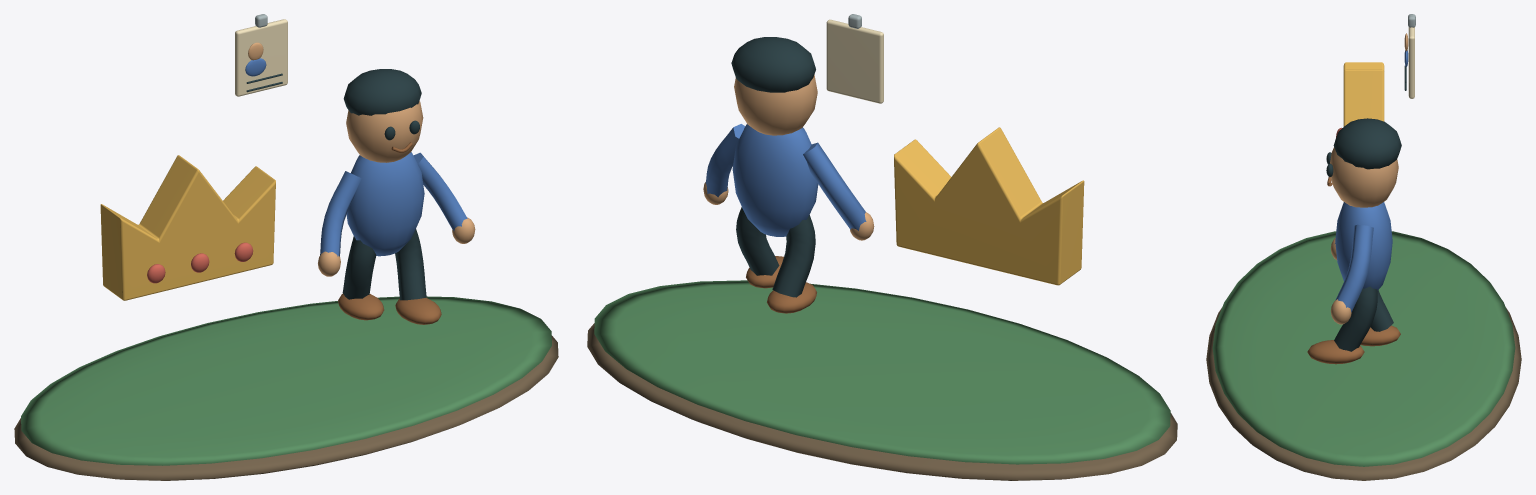
File: complete-third-large-official-husband.glb
The picture shows the model from 3 angles, left to right: view 1: azimuth 30°, elevation 25°; view 2: azimuth 150°, elevation 25°; view 3: azimuth 270°, elevation 25°; orthographic projection. The views are drawn at different scales.
Visible parts, largest first — view 1: complete-third-large-official-husband_surface_01, complete-third-large-official-husband_surface_02, complete-third-large-official-husband_surface_07, complete-third-large-official-husband_surface_00, complete-third-large-official-husband_surface_05, complete-third-large-official-husband_surface_04, complete-third-large-official-husband_surface_08, complete-third-large-official-husband_surface_06, complete-third-large-official-husband_surface_03; view 2: complete-third-large-official-husband_surface_01, complete-third-large-official-husband_surface_02, complete-third-large-official-husband_surface_00, complete-third-large-official-husband_surface_07, complete-third-large-official-husband_surface_05, complete-third-large-official-husband_surface_08, complete-third-large-official-husband_surface_04, complete-third-large-official-husband_surface_06; view 3: complete-third-large-official-husband_surface_01, complete-third-large-official-husband_surface_00, complete-third-large-official-husband_surface_05, complete-third-large-official-husband_surface_07, complete-third-large-official-husband_surface_04, complete-third-large-official-husband_surface_02, complete-third-large-official-husband_surface_06, complete-third-large-official-husband_surface_08.
Part boxes in pixels (left/top/right/bottom): complete-third-large-official-husband_surface_01: left=21, top=296, right=551, bottom=465; complete-third-large-official-husband_surface_02: left=100, top=155, right=275, bottom=300; complete-third-large-official-husband_surface_07: left=245, top=58, right=467, bottom=256; complete-third-large-official-husband_surface_00: left=14, top=335, right=558, bottom=480; complete-third-large-official-husband_surface_05: left=246, top=69, right=426, bottom=300; complete-third-large-official-husband_surface_04: left=248, top=42, right=475, bottom=276; complete-third-large-official-husband_surface_08: left=235, top=19, right=287, bottom=96; complete-third-large-official-husband_surface_06: left=338, top=142, right=441, bottom=324; complete-third-large-official-husband_surface_03: left=147, top=242, right=253, bottom=283; complete-third-large-official-husband_surface_01: left=594, top=280, right=1170, bottom=464; complete-third-large-official-husband_surface_02: left=894, top=127, right=1084, bottom=285; complete-third-large-official-husband_surface_00: left=587, top=323, right=1177, bottom=480; complete-third-large-official-husband_surface_07: left=705, top=124, right=866, bottom=236; complete-third-large-official-husband_surface_05: left=731, top=37, right=815, bottom=297; complete-third-large-official-husband_surface_08: left=826, top=19, right=883, bottom=103; complete-third-large-official-husband_surface_04: left=703, top=74, right=874, bottom=240; complete-third-large-official-husband_surface_06: left=746, top=256, right=816, bottom=313; complete-third-large-official-husband_surface_01: left=1212, top=231, right=1515, bottom=466; complete-third-large-official-husband_surface_00: left=1206, top=308, right=1521, bottom=480; complete-third-large-official-husband_surface_05: left=1326, top=65, right=1406, bottom=351; complete-third-large-official-husband_surface_07: left=1335, top=50, right=1408, bottom=312; complete-third-large-official-husband_surface_04: left=1330, top=33, right=1408, bottom=324; complete-third-large-official-husband_surface_02: left=1343, top=62, right=1384, bottom=126; complete-third-large-official-husband_surface_06: left=1307, top=177, right=1400, bottom=364; complete-third-large-official-husband_surface_08: left=1408, top=27, right=1414, bottom=98.
Bounding box in the file's own units: 4.56 × 3.14 × 2.5.
